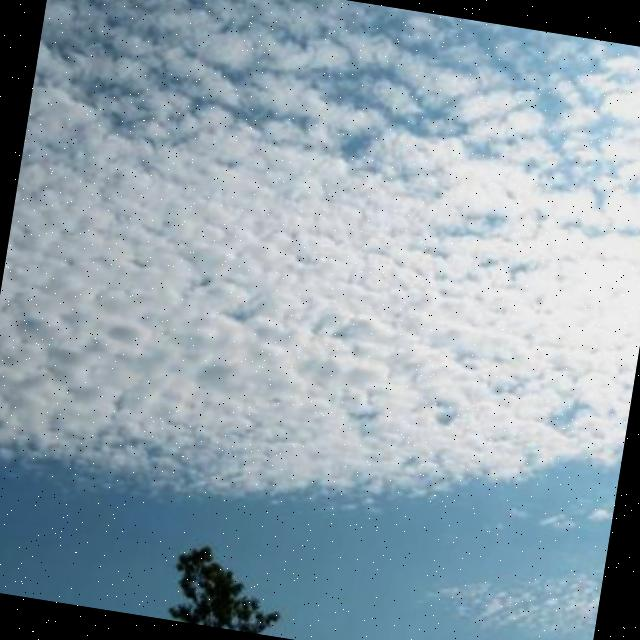Ac: (1, 26, 640, 541)
